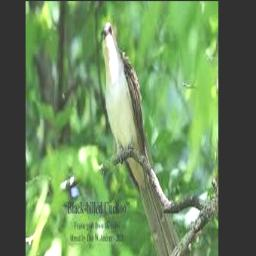Cuckoo: (101, 23, 184, 256)
